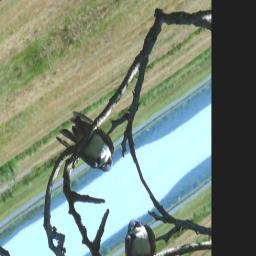Swallow: (49, 96, 124, 196)
